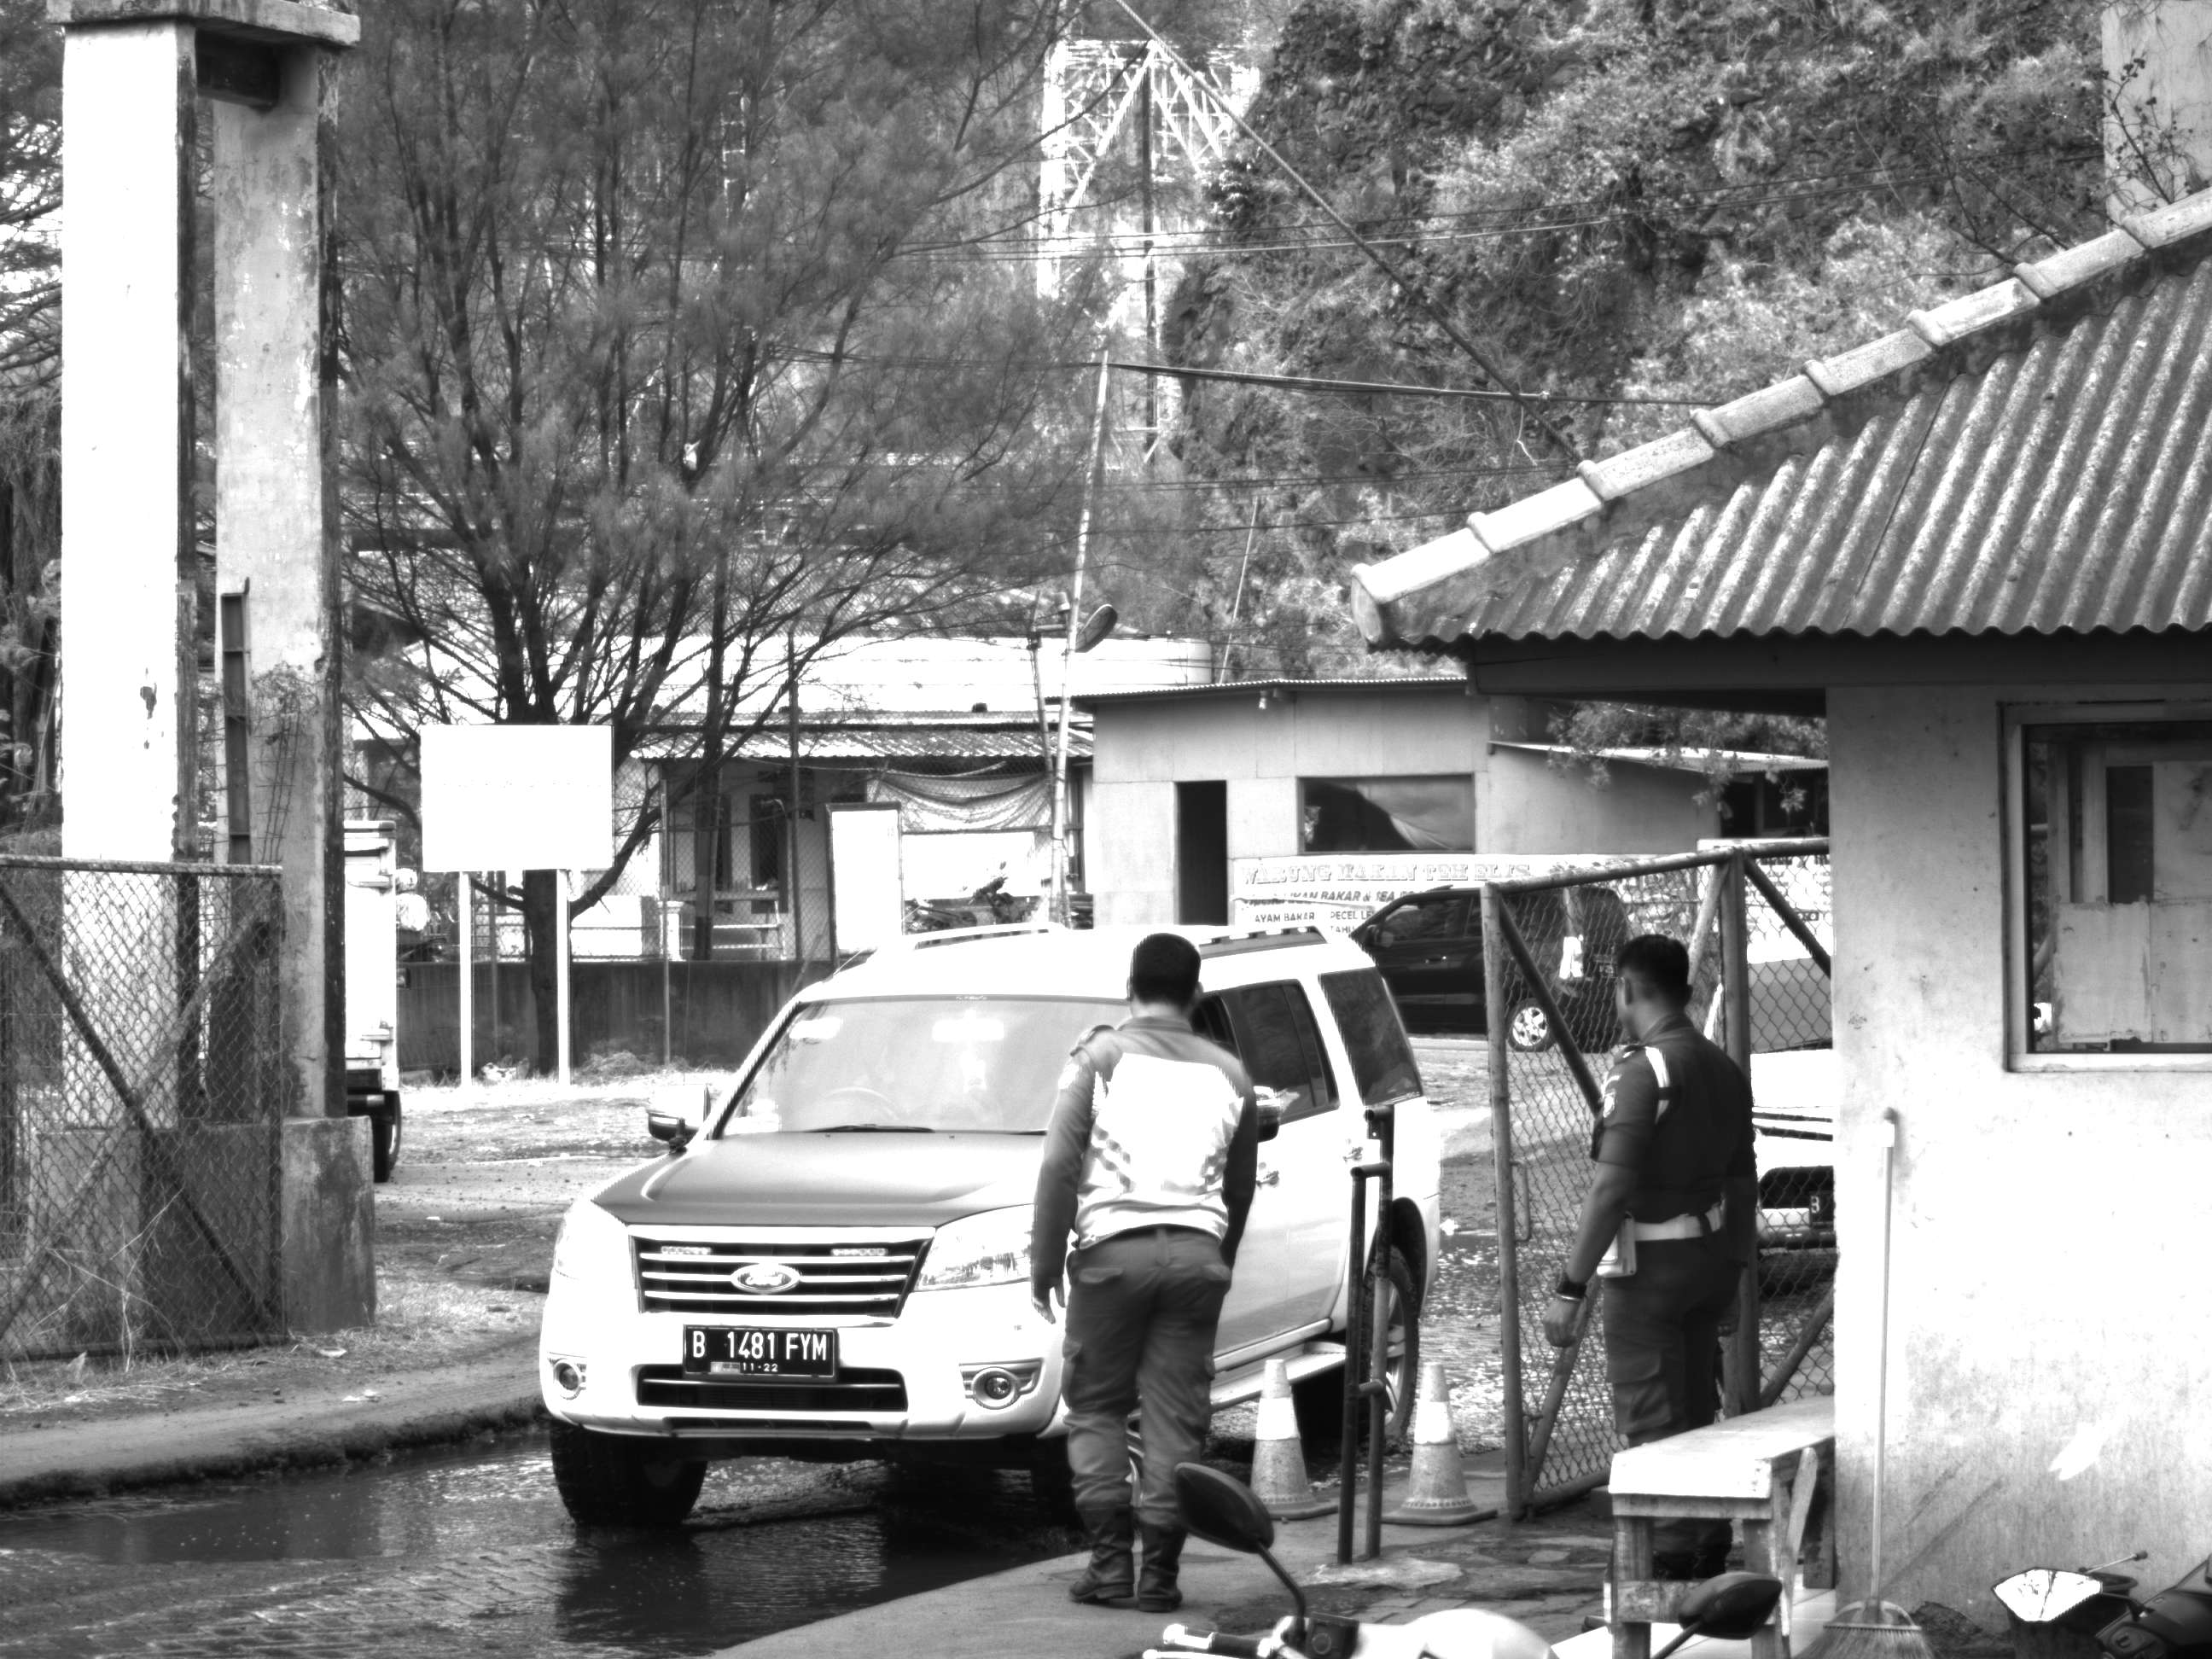day_small_front: (515, 965, 1243, 1538)
plate: (674, 1321, 847, 1392)
